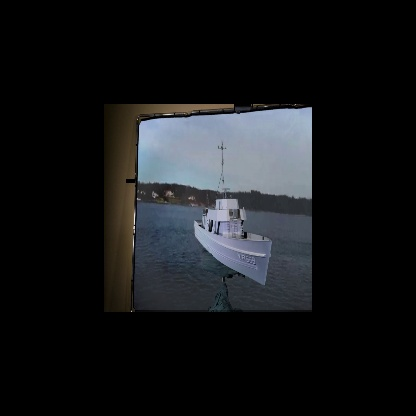YP689: (194, 139, 272, 286)
